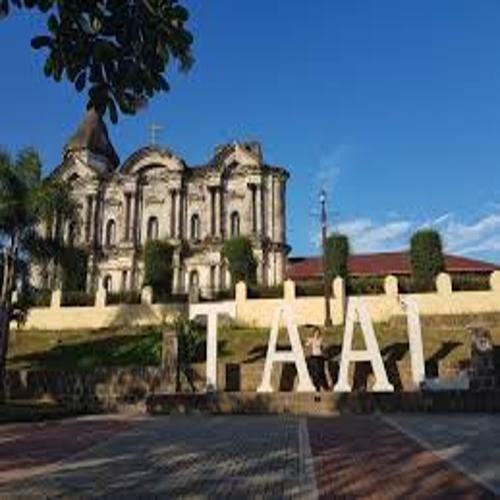Taal Basilica Church: (35, 84, 297, 299)
